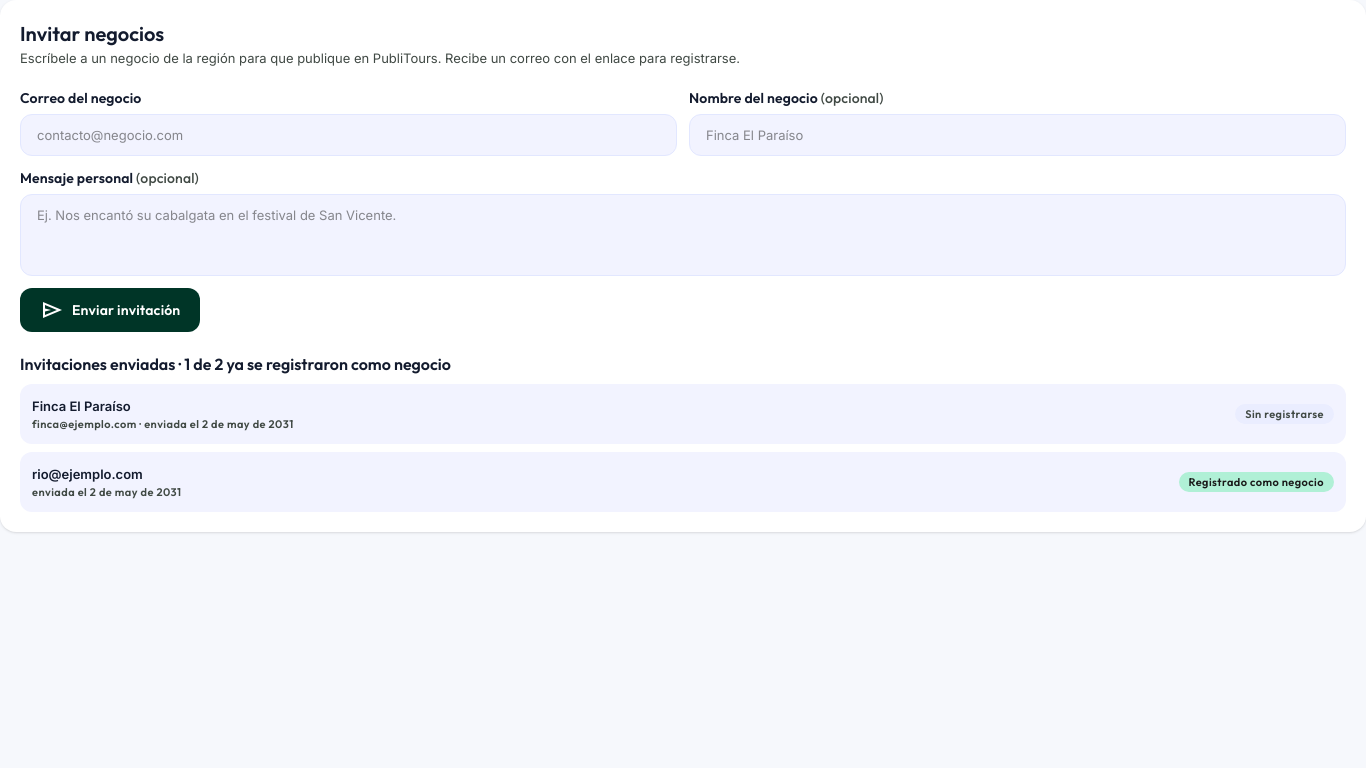
Scenario: InvitacionesAdmin › envía la invitación, limpia el formulario y recarga la lista
Expected: the text "Finca El Paraíso" is shown, [32, 398, 131, 414]
Step 1. Type "nuevo@ejemplo.com" into the field labelled "Correo del negocio" → (348, 135), box [20, 114, 677, 156]
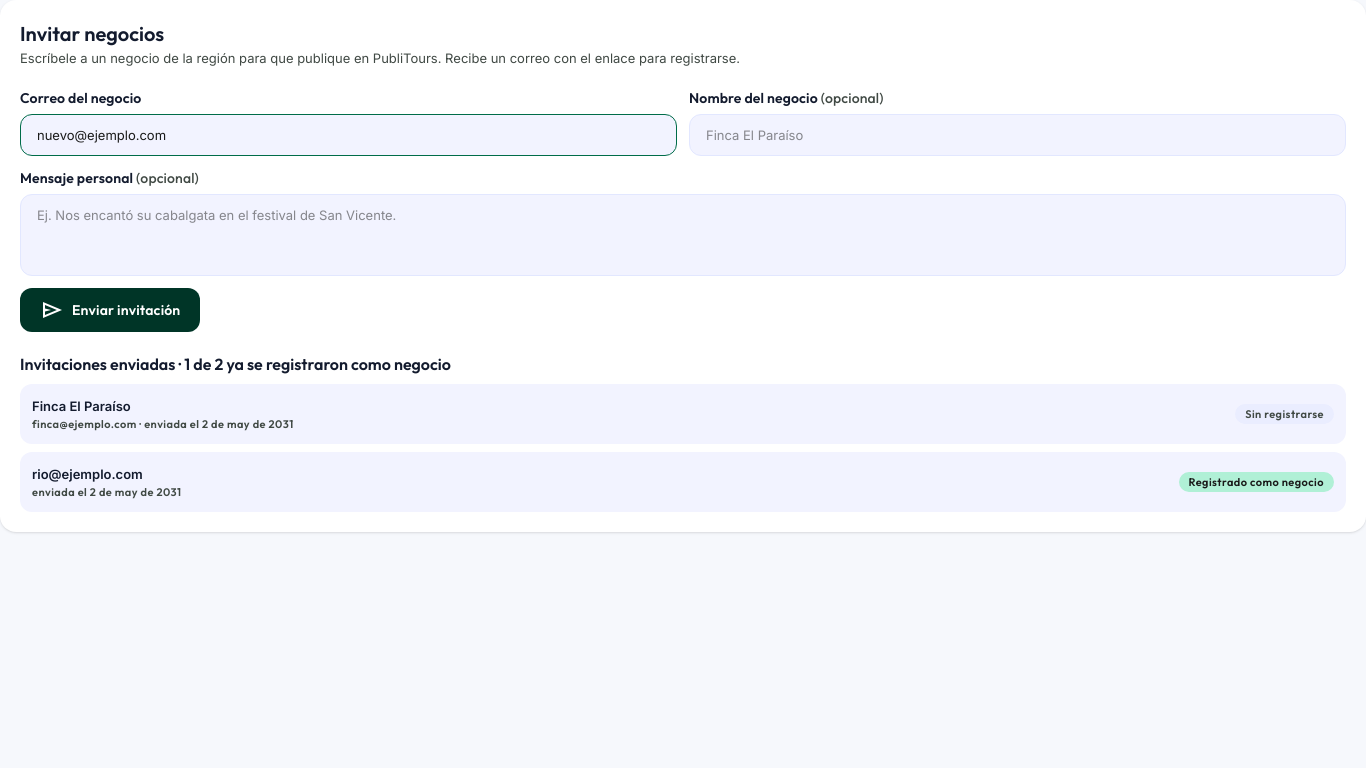
Step 2. Type "Café La Loma" into the field labelled "Nombre del negocio (opcional)" → (1018, 135), box [689, 114, 1346, 156]
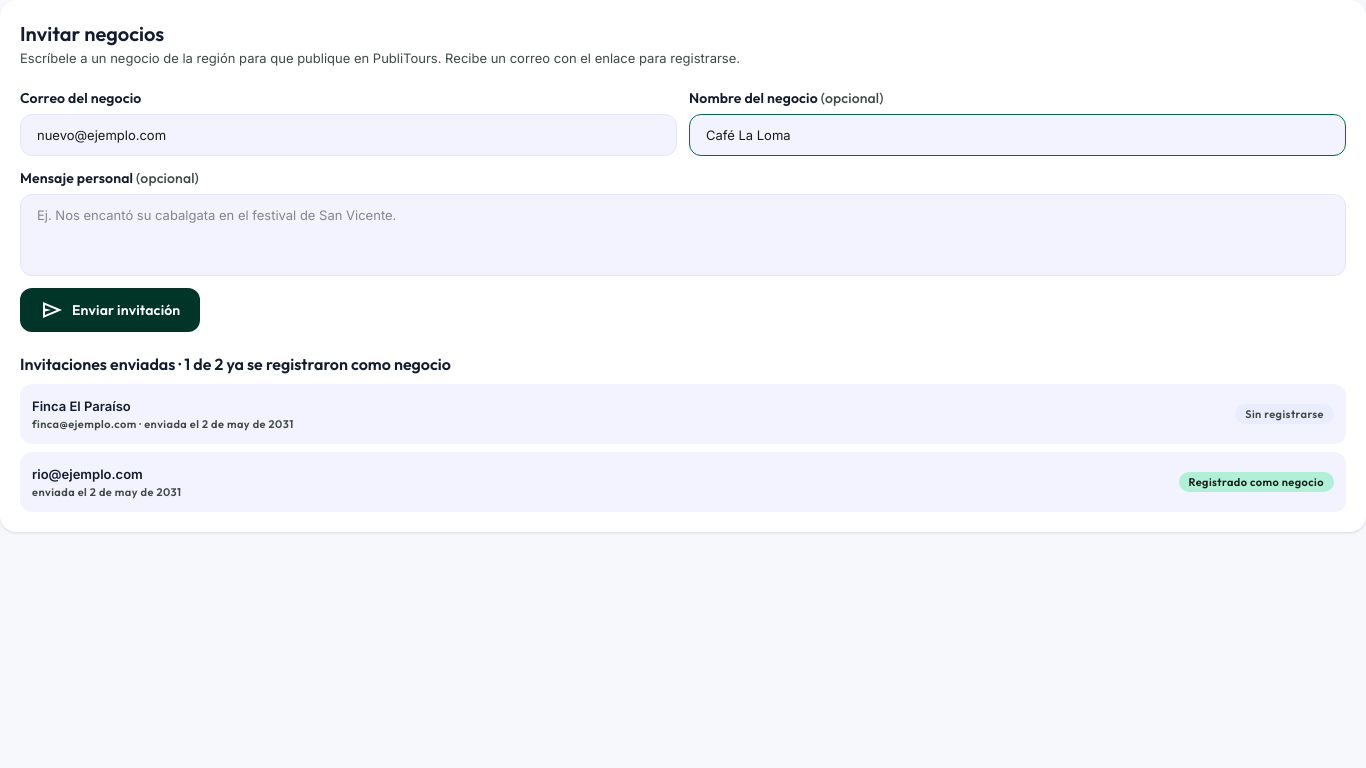
Step 3. Click the button "Enviar invitación" → (110, 310), box [20, 288, 200, 332]
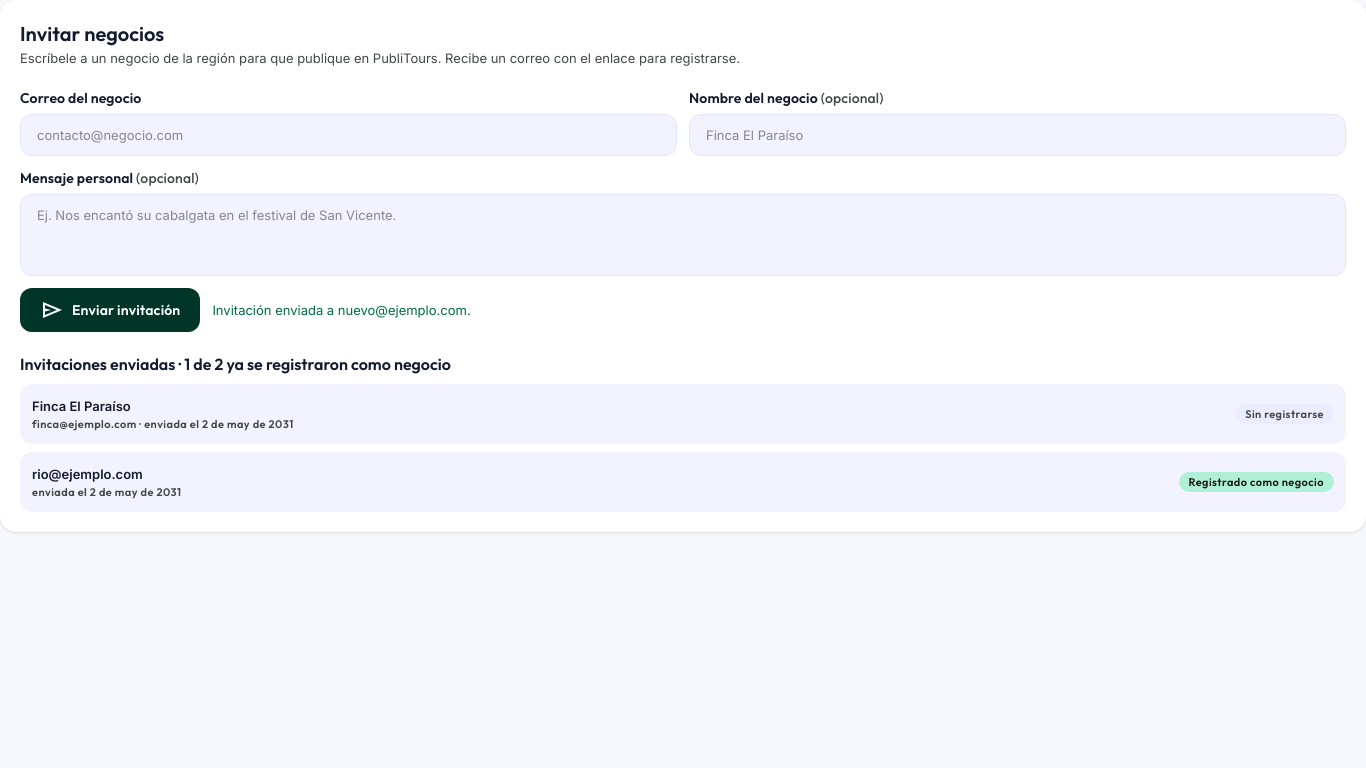
Expected: the message reads "Invitación enviada a nuevo@ejemplo.com.", [212, 302, 471, 318]
Expected: the field labelled "Correo del negocio" is empty, [20, 114, 677, 156]
